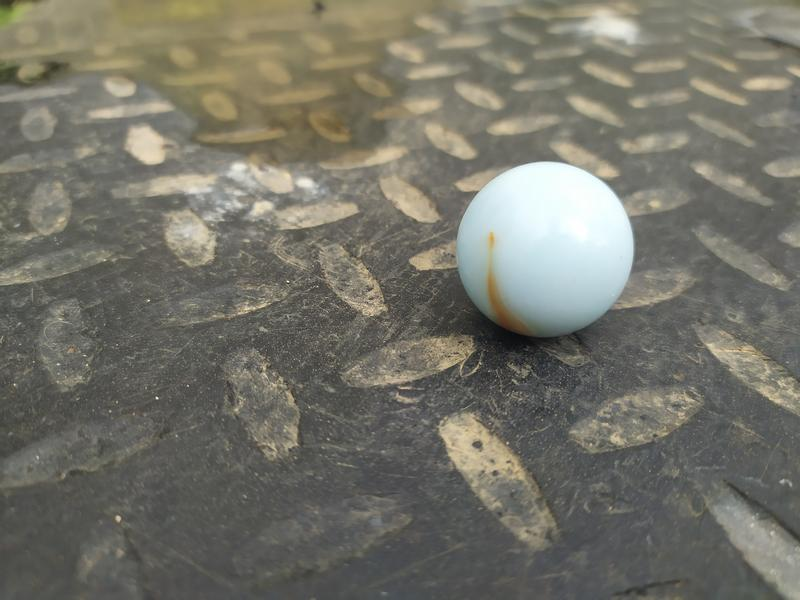Warning: (450, 154, 640, 345)
